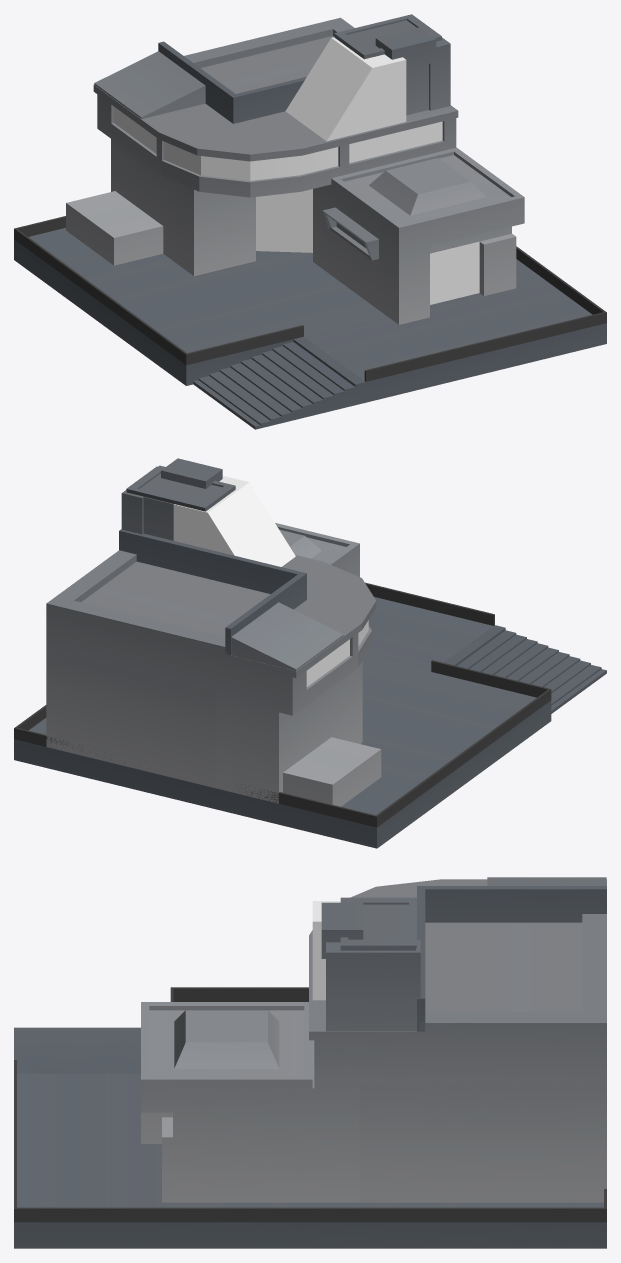
File: Base_cientifica.fbx
3 views of the same model, one above another, from view 1: azimuth 30°, elevation 25°; view 2: azimuth 150°, elevation 25°; view 3: azimuth 270°, elevation 25° (orthographic). The views are drawn at different scales.
Parts seen in each view (by area): view 1: pCube30, pCube16, pCube23, pCube17, pCube28, pCube31, pCube32, pCube24, pCube29, pCube20, pCube25, pCube21 (+5 smaller); view 2: pCube30, pCube16, pCube27, pCube28, pCube17, pCube32, pCube21, pCube31, pCube29, pCube20, pCube22, pCube18 (+3 smaller); view 3: pCube30, pCube16, pCube27, pCube23, pCube32, pCube17, pCube24, pCube21, pCube25, pCube22, pCube31, pCube18 (+2 smaller).
Part boxes in pixels (x1=…): pCube30: x1=14, y1=228, x2=606, y2=402; pCube16: x1=93, y1=36, x2=458, y2=197; pCube23: x1=313, y1=184, x2=524, y2=324; pCube17: x1=285, y1=37, x2=450, y2=141; pCube28: x1=111, y1=139, x2=255, y2=276; pCube31: x1=193, y1=336, x2=365, y2=429; pCube32: x1=14, y1=216, x2=606, y2=381; pCube24: x1=331, y1=147, x2=524, y2=234; pCube29: x1=66, y1=191, x2=163, y2=265; pCube20: x1=94, y1=51, x2=205, y2=118; pCube25: x1=369, y1=158, x2=486, y2=215; pCube21: x1=158, y1=41, x2=306, y2=123; pCube30: x1=14, y1=597, x2=551, y2=848; pCube16: x1=46, y1=555, x2=376, y2=715; pCube27: x1=46, y1=652, x2=215, y2=788; pCube28: x1=216, y1=661, x2=362, y2=803; pCube17: x1=121, y1=465, x2=295, y2=566; pCube32: x1=14, y1=582, x2=551, y2=827; pCube21: x1=119, y1=529, x2=306, y2=655; pCube31: x1=444, y1=625, x2=606, y2=713; pCube29: x1=283, y1=737, x2=381, y2=806; pCube20: x1=231, y1=602, x2=343, y2=670; pCube22: x1=46, y1=550, x2=227, y2=654; pCube18: x1=126, y1=466, x2=235, y2=511; pCube30: x1=14, y1=1073, x2=606, y2=1248; pCube16: x1=309, y1=879, x2=606, y2=1088; pCube27: x1=359, y1=1083, x2=606, y2=1202; pCube23: x1=141, y1=1040, x2=359, y2=1202; pCube32: x1=14, y1=987, x2=606, y2=1222; pCube17: x1=312, y1=901, x2=420, y2=1031; pCube24: x1=141, y1=1002, x2=312, y2=1088; pCube21: x1=417, y1=886, x2=606, y2=1031; pCube25: x1=174, y1=1010, x2=279, y2=1068; pCube22: x1=420, y1=914, x2=606, y2=1031; pCube31: x1=14, y1=1027, x2=140, y2=1073; pCube18: x1=340, y1=897, x2=416, y2=950.
Bounding box in the file's own units: 3.21 × 1.94 × 3.63.
